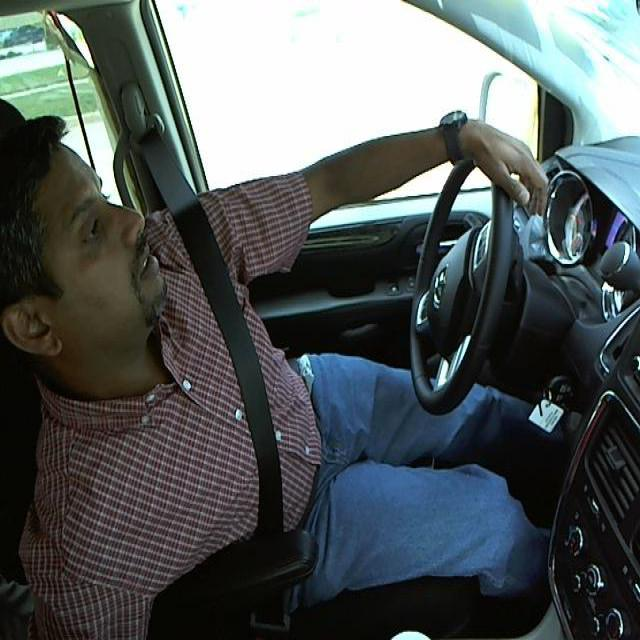seatbelt: (174, 230, 306, 546)
